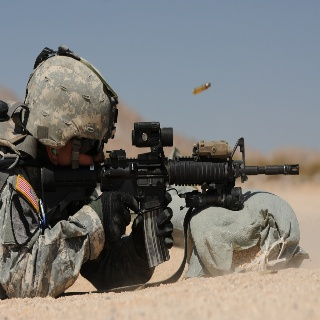rifle: (39, 118, 300, 270)
